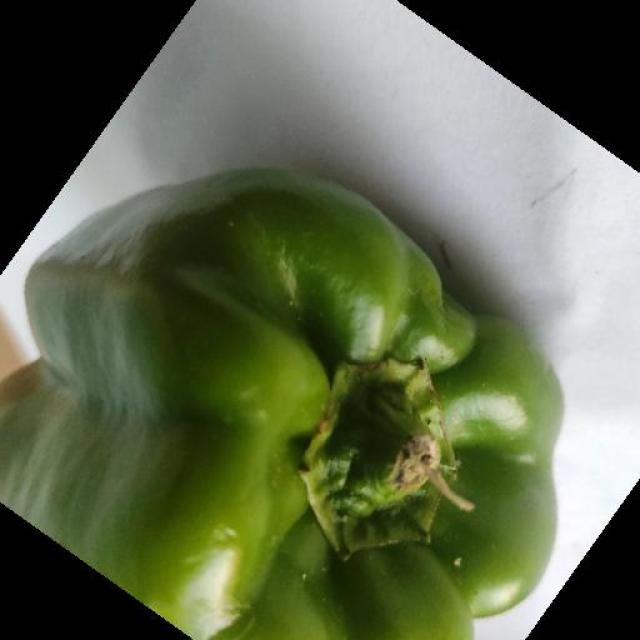Fresh_Capsicum: (74, 215, 463, 634)
